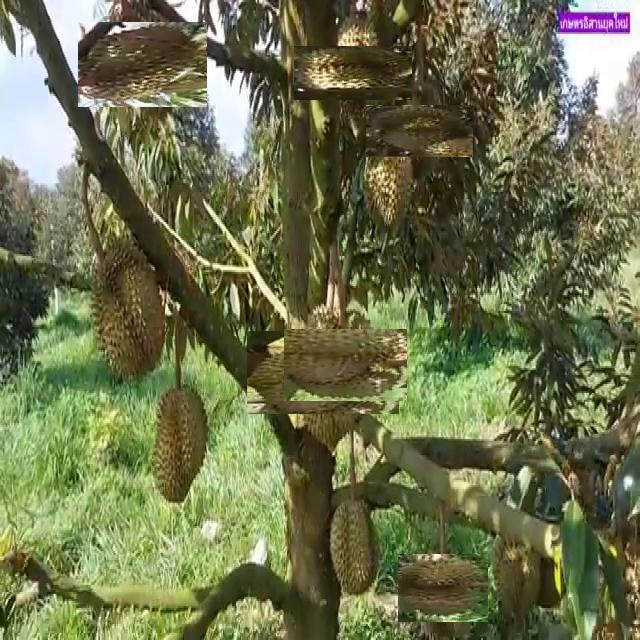durian: (263, 314, 382, 431), (86, 231, 168, 384), (89, 11, 197, 118), (296, 316, 394, 414), (150, 378, 212, 508), (310, 30, 397, 116), (405, 546, 487, 630), (324, 492, 383, 601), (360, 125, 414, 241), (380, 91, 459, 170), (488, 516, 543, 622)
